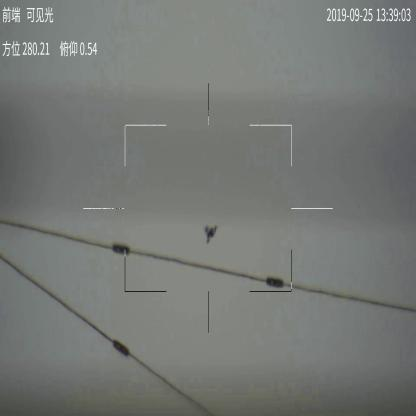uav: (204, 221, 218, 243)
